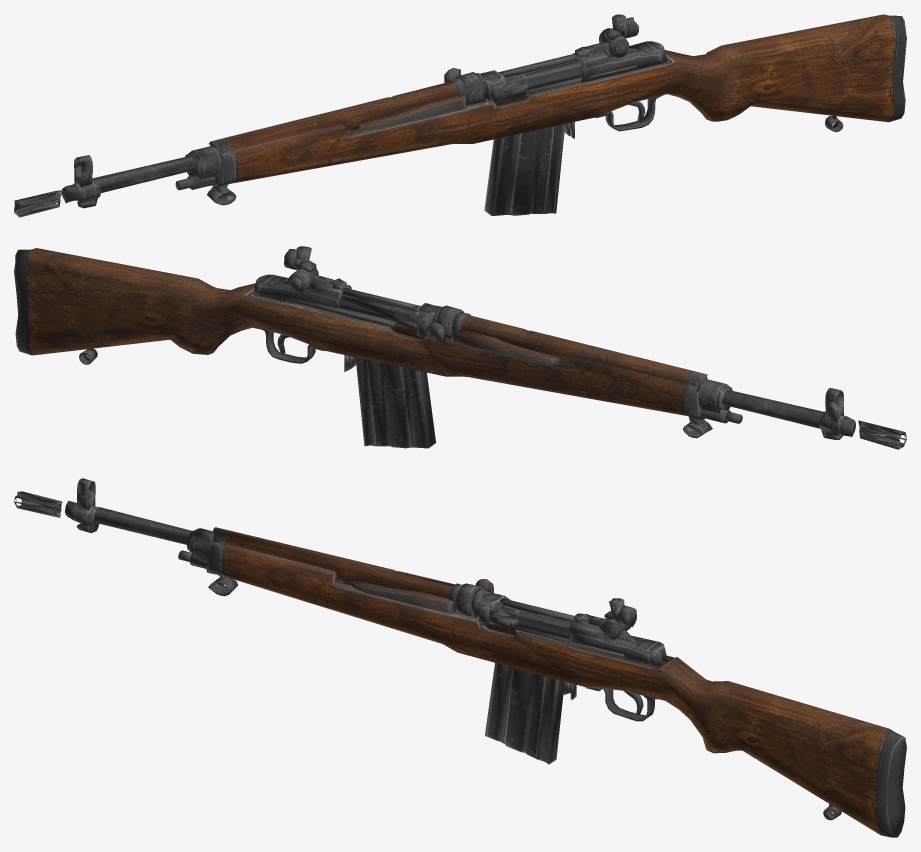
File: Meshy_AI_model.fbx
The picture shows the model from 3 angles, top to bottom: view 1: azimuth 30°, elevation 25°; view 2: azimuth 150°, elevation 25°; view 3: azimuth 330°, elevation 25°; orthographic projection.
Visible parts, largest first — view 1: Mesh_0; view 2: Mesh_0; view 3: Mesh_0.
Boxes of the visible parts, left/top/right/bottom form: Mesh_0: left=14, top=14, right=906, bottom=217; Mesh_0: left=14, top=246, right=906, bottom=449; Mesh_0: left=14, top=478, right=906, bottom=837.
Size of the model in its own units: 96.19 by 18.51 by 4.79.
1 material, 1 textured.
